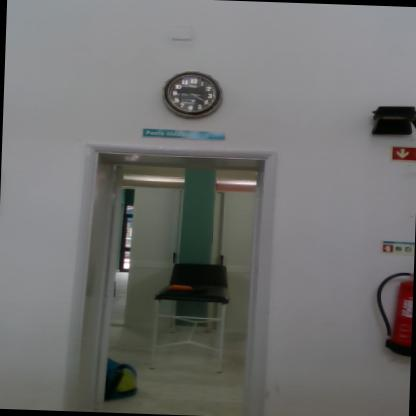open: (76, 140, 286, 411)
